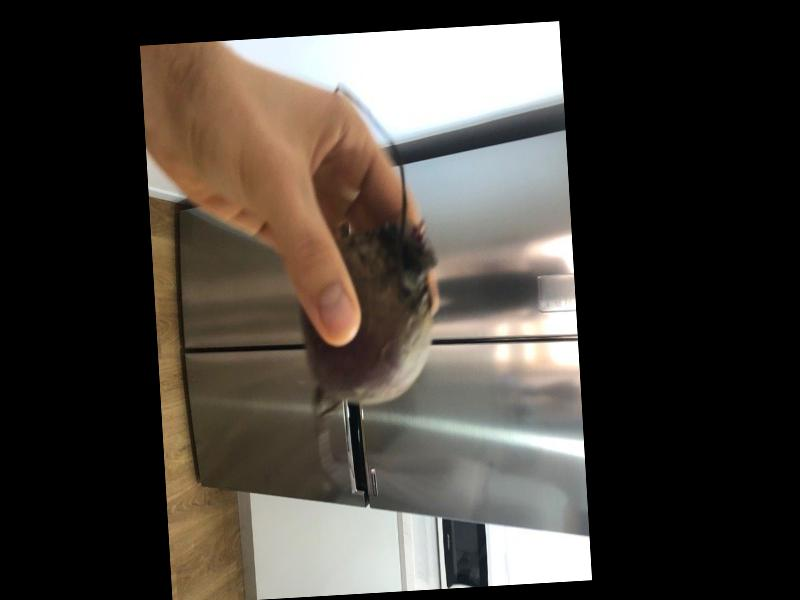Beet: (288, 81, 446, 438)
